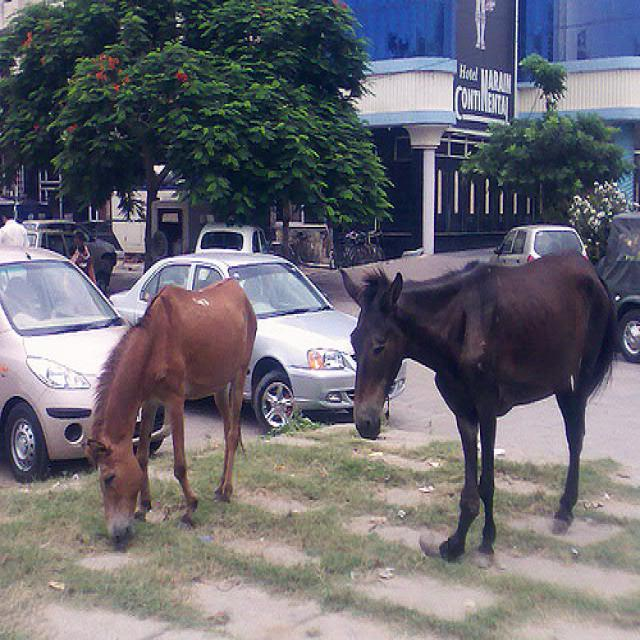Vehicle: (108, 253, 360, 425), (1, 246, 127, 482), (23, 216, 124, 305), (596, 214, 640, 365), (488, 228, 588, 266), (193, 222, 270, 256)
